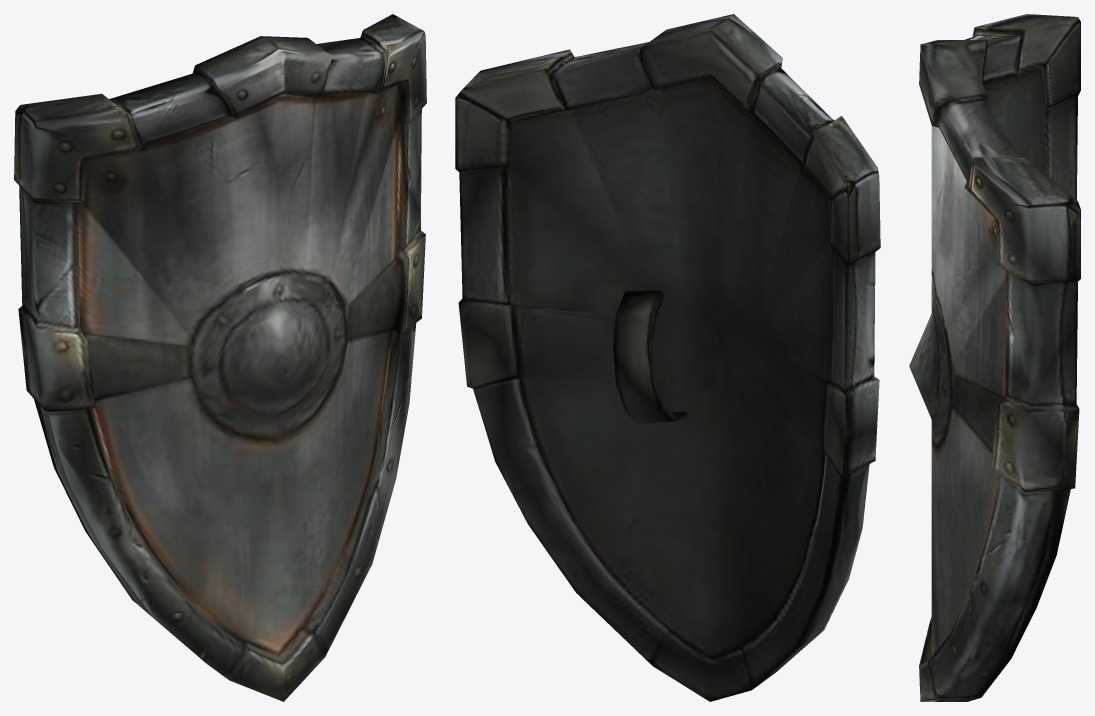
Rendered from escudo-ferro-m68.glb.
3 renders of one model, left to right at view 1: azimuth 30°, elevation 25°; view 2: azimuth 150°, elevation 25°; view 3: azimuth 270°, elevation 25°, orthographic. The views are drawn at different scales.
Visible parts, largest first — view 1: escudo-ferro; view 2: escudo-ferro; view 3: escudo-ferro.
Boxes of the visible parts, x1,y1,x2,y2 form: escudo-ferro: (14, 14, 426, 701); escudo-ferro: (455, 14, 880, 701); escudo-ferro: (909, 14, 1080, 701).
Size of the model in its own units: 0.636 by 1 by 0.2368.
1 material, 1 textured.
